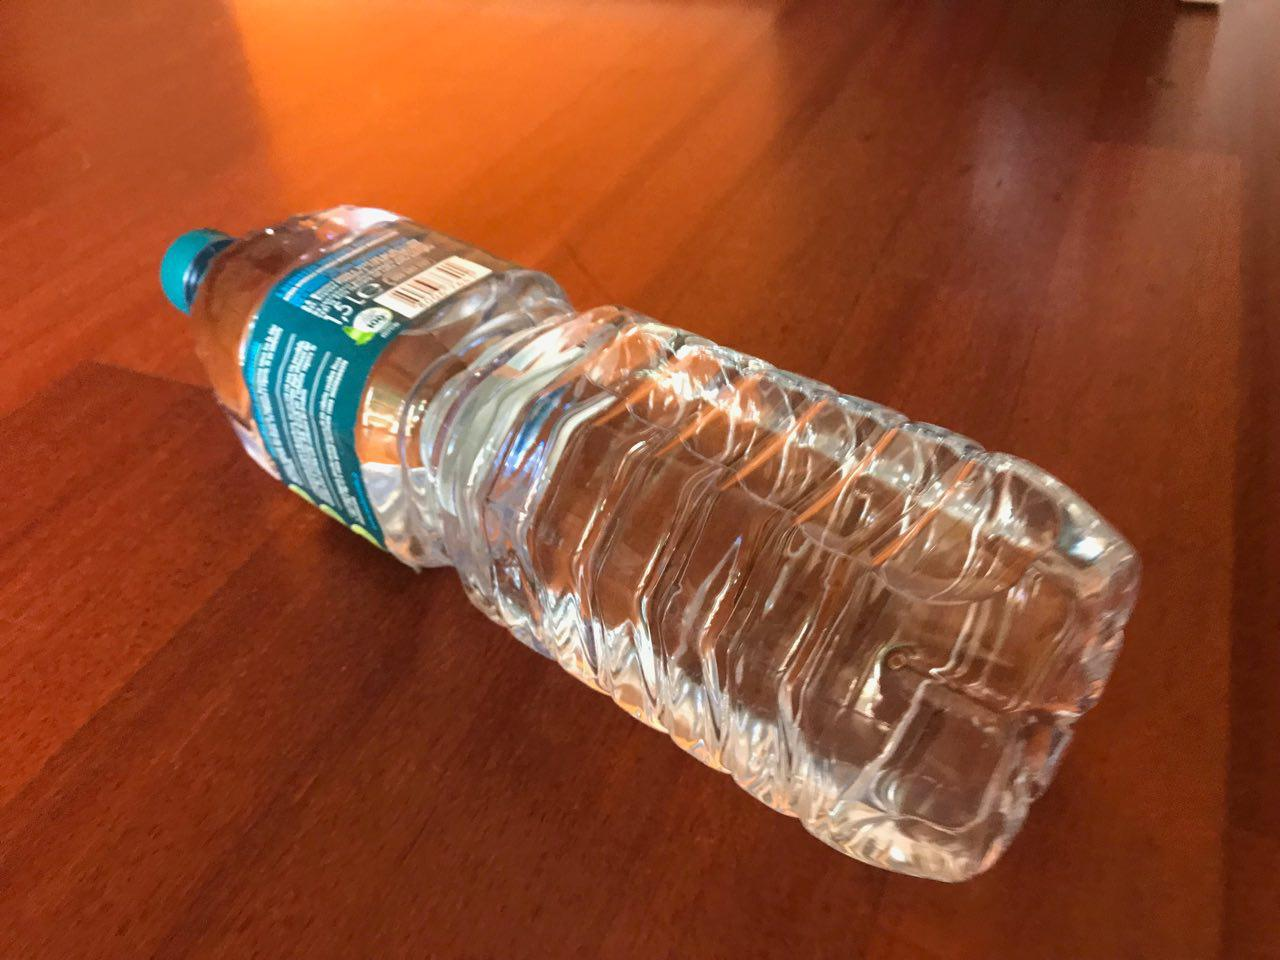san_bernardo: (159, 201, 1145, 888)
